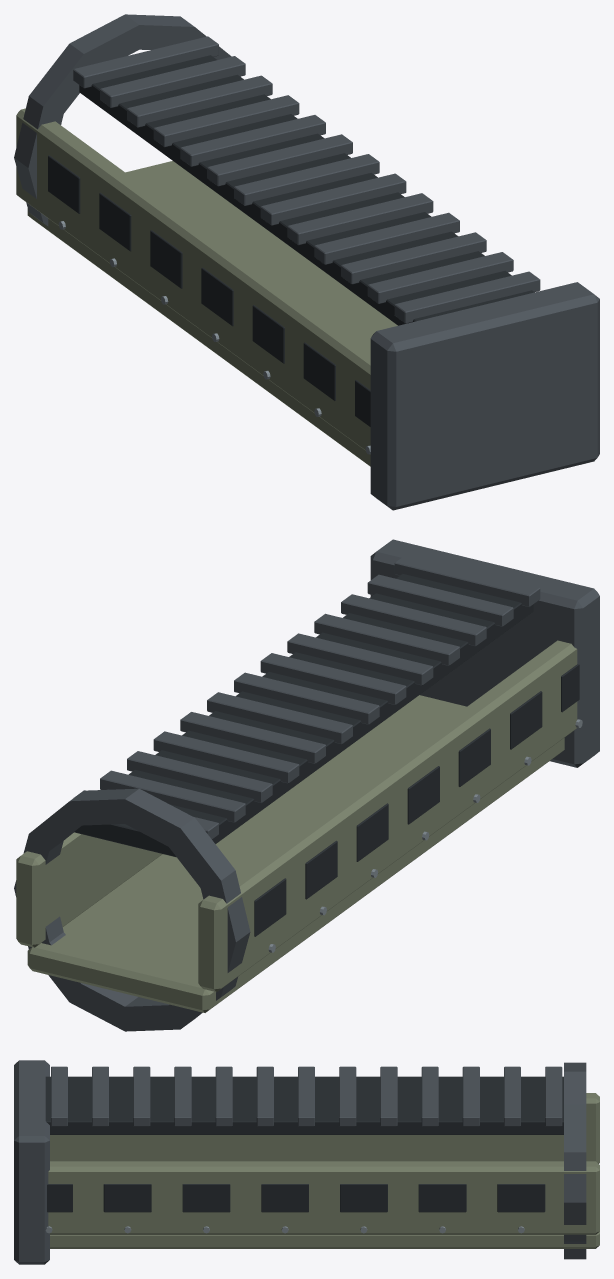
Rendered from weapon_aurochs556_handguard.glb.
3 renders of one model, top to bottom at view 1: azimuth 30°, elevation 25°; view 2: azimuth 150°, elevation 25°; view 3: azimuth 270°, elevation 25°, orthographic. The views are drawn at different scales.
Parts seen in each view (by area): view 1: Geometry_weapon_aurochs556_handguard; view 2: Geometry_weapon_aurochs556_handguard; view 3: Geometry_weapon_aurochs556_handguard.
Part boxes in pixels (x1,y1,x2,y2): Geometry_weapon_aurochs556_handguard: [14, 14, 599, 510]; Geometry_weapon_aurochs556_handguard: [14, 539, 599, 1031]; Geometry_weapon_aurochs556_handguard: [14, 1060, 599, 1264].
Bounding box in the file's own units: 0.1153 × 0.1153 × 0.3425.
